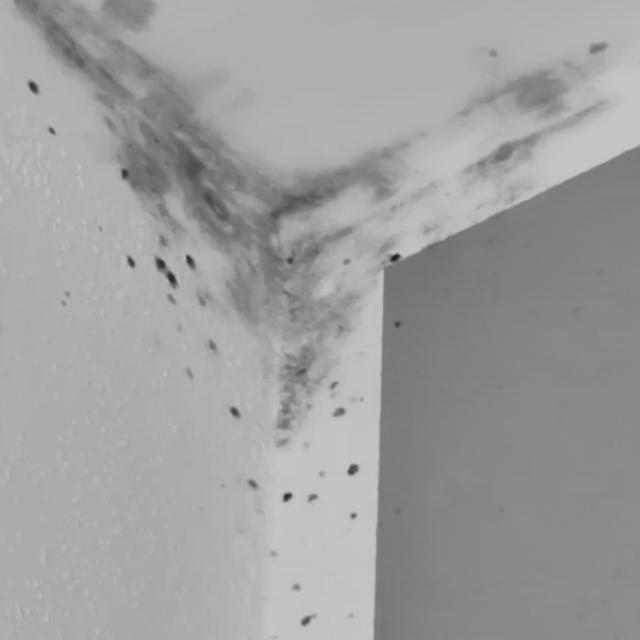stain marks: (8, 0, 273, 502), (278, 39, 407, 516), (443, 37, 620, 184)
